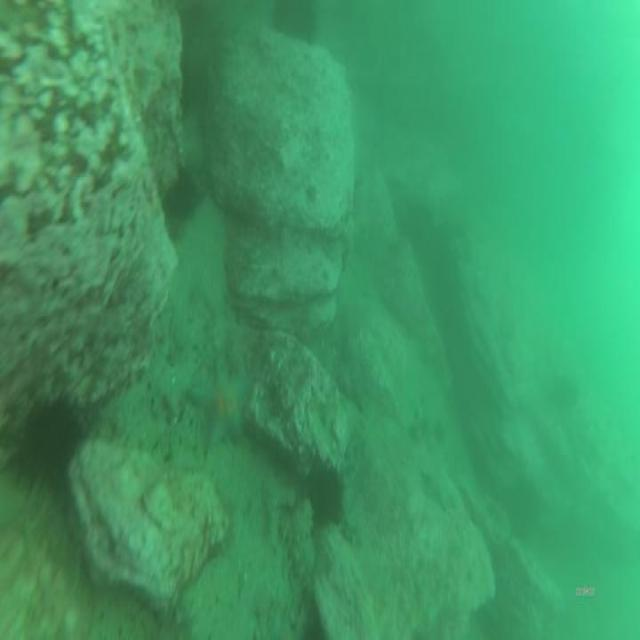echinus: (22, 402, 75, 486), (162, 166, 201, 221), (273, 3, 317, 48), (308, 468, 342, 524)
starfish: (194, 362, 246, 444), (423, 458, 454, 511)
